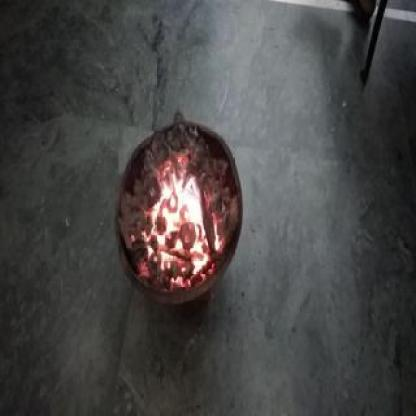Fire: (141, 156, 227, 285)
